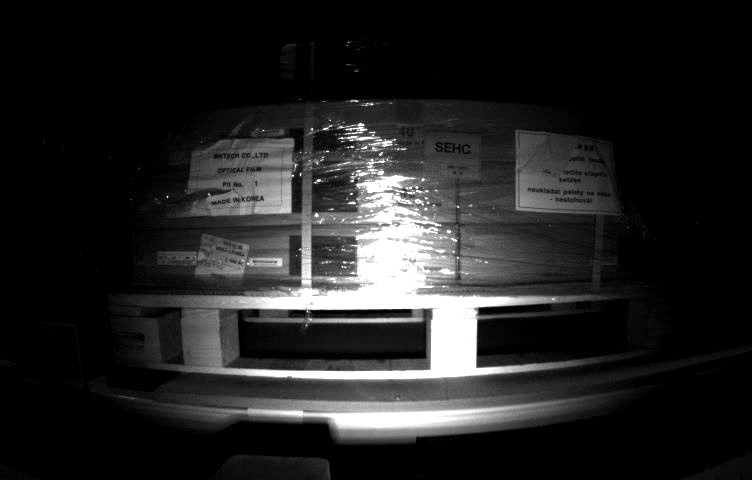True Barcode: (196, 233, 245, 287)
